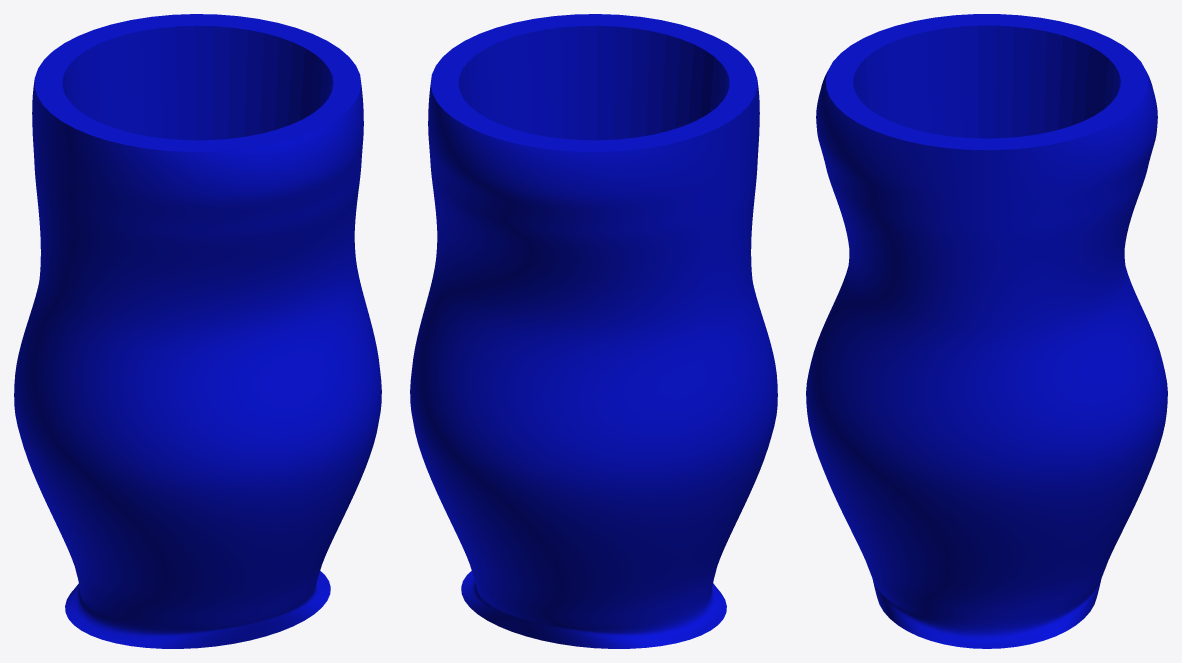
The picture shows the model from 3 angles, left to right: view 1: azimuth 30°, elevation 25°; view 2: azimuth 150°, elevation 25°; view 3: azimuth 270°, elevation 25°; orthographic projection.
Parts seen in each view (by area): view 1: Cylinder001; view 2: Cylinder001; view 3: Cylinder001.
Part boxes in pixels (x1,y1,x2,y2): Cylinder001: [14, 14, 381, 648]; Cylinder001: [410, 14, 777, 648]; Cylinder001: [806, 14, 1167, 648].
Bounding box in the file's own units: 40.59 × 62.62 × 40.37.
